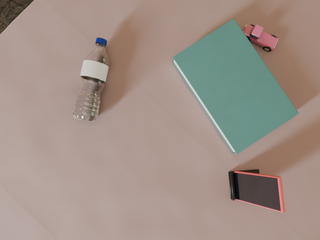book: (172, 18, 299, 154)
bottle: (72, 38, 109, 122)
phone: (234, 171, 285, 212)
toy_car: (243, 25, 278, 51)
